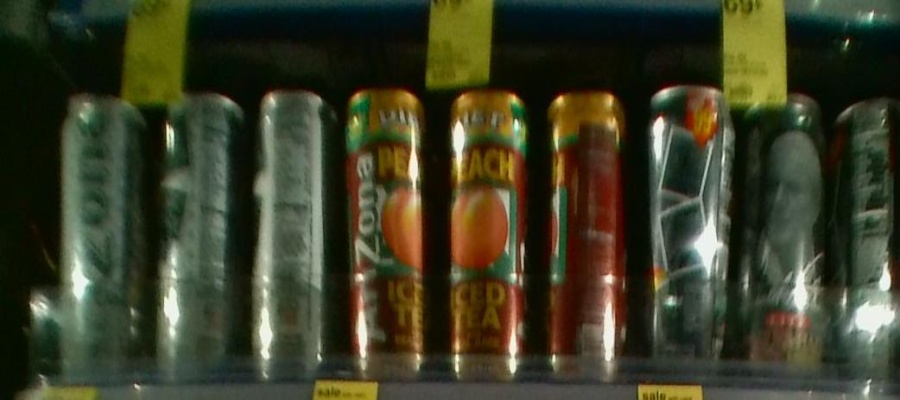bottle: (54, 86, 150, 400), (639, 76, 735, 378), (539, 88, 631, 394), (440, 71, 529, 387), (157, 83, 244, 395), (251, 84, 336, 400), (342, 78, 427, 392), (741, 84, 830, 383), (835, 73, 900, 387)
